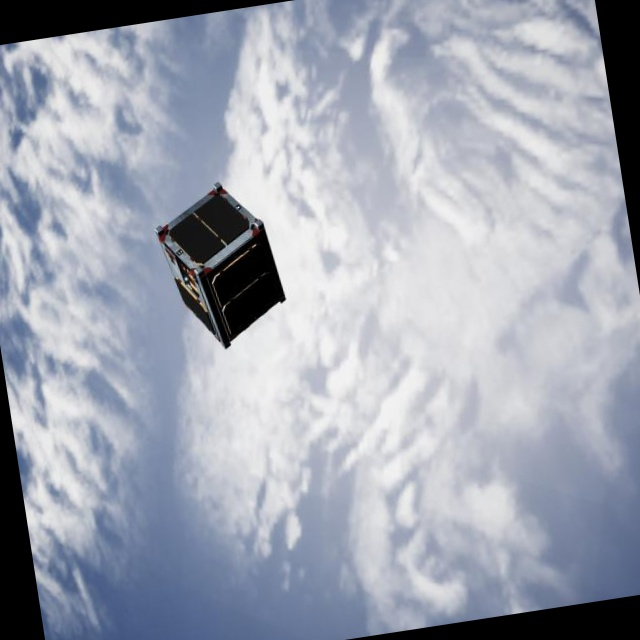medium_debris: (148, 173, 294, 361)
